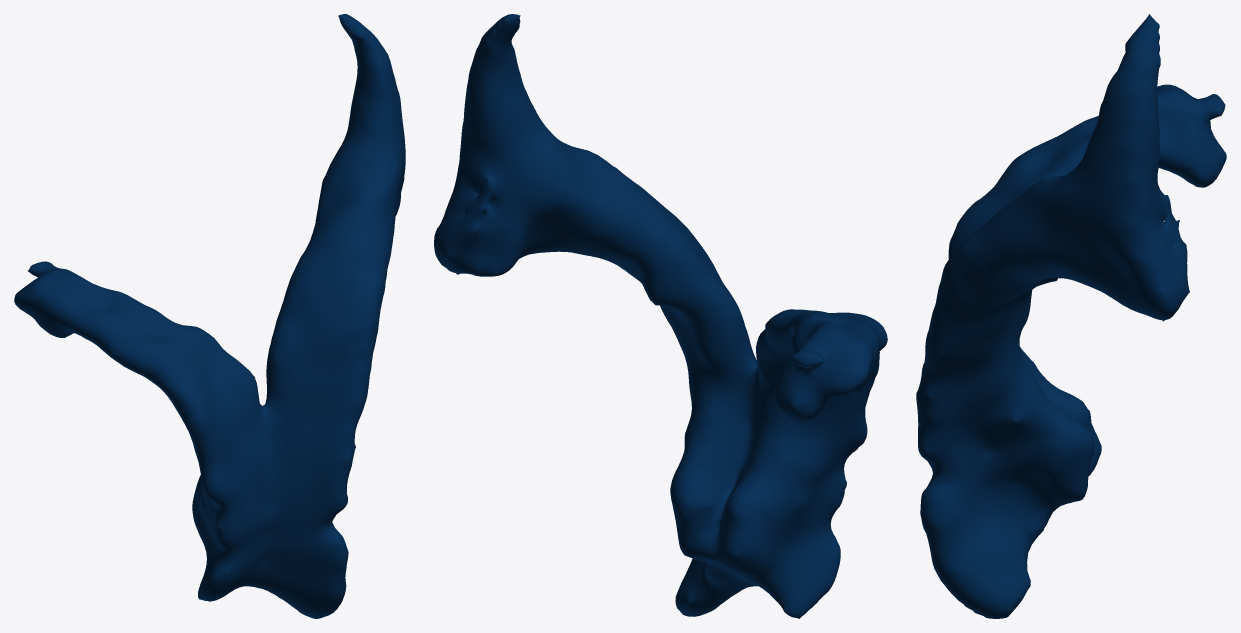
Rendered from Ventricle.obj.
3 views of the same model, side by side, from view 1: azimuth 30°, elevation 25°; view 2: azimuth 150°, elevation 25°; view 3: azimuth 270°, elevation 25° (orthographic). The views are drawn at different scales.
Parts seen in each view (by area): view 1: grp1; view 2: grp1; view 3: grp1.
Boxes of the visible parts, x1,y1,x2,y2 form: grp1: (14,14,405,618); grp1: (434,14,887,618); grp1: (916,14,1226,618).
Bounding box in the file's own units: 66.37 × 90.45 × 38.92.
